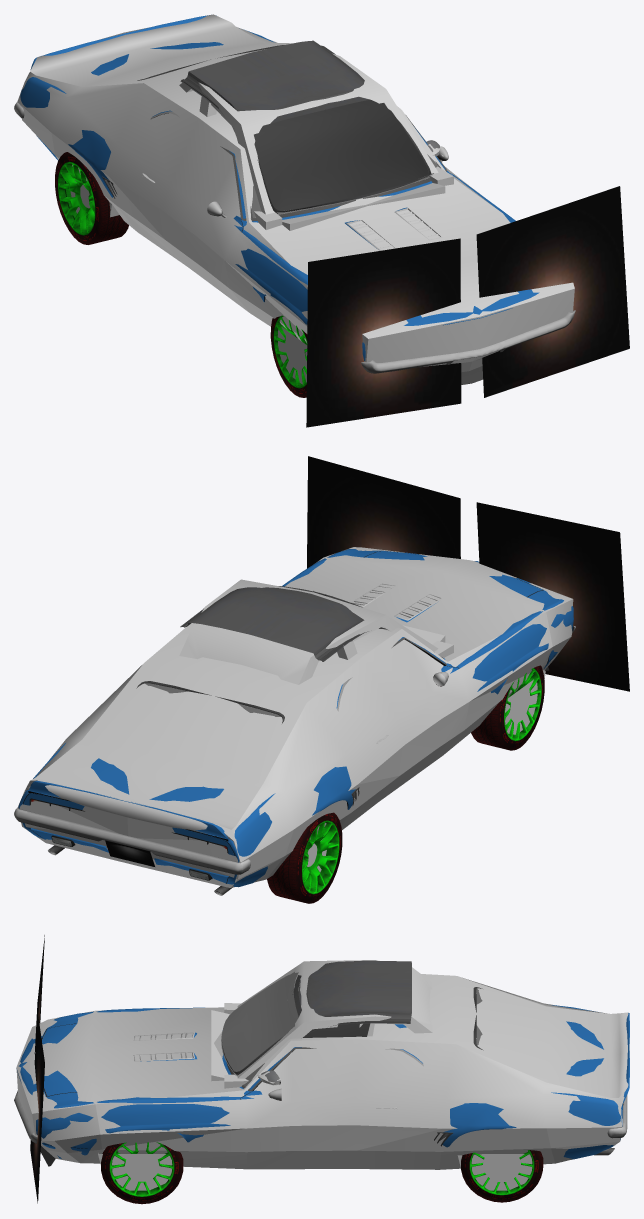
The model's file is P_car-011_Cascaron.fbx.
3 renders of one model, top to bottom at view 1: azimuth 30°, elevation 25°; view 2: azimuth 150°, elevation 25°; view 3: azimuth 270°, elevation 25°, orthographic. The views are drawn at different scales.
Visible parts, largest first — view 1: M_Car-011_Shadow_Cascaron_01, M_Car-011_FrontFlares_Cascaron_01, M_Car-Interior_Glass_01, M_Car-Interior_Details_01, M_Car-011_Body_Cascaron_01, M_Car-Interior_Shadowform_01, M_Car-011_Details_Cascaron_01, M_CarWheel_003_AP_01, M_CaTire_003_AP_01 (×2), M_CaTire_003_AP_02; view 2: M_Car-011_Shadow_Cascaron_01, M_Car-011_FrontFlares_Cascaron_01, M_Car-011_Body_Cascaron_01, M_Car-Interior_Details_01, M_Car-Interior_Shadowform_01, M_Car-011_Details_Cascaron_01, M_CarWheel_003_AP_01 (×2), M_CaTire_003_AP_02 (×2), M_Car-011_BackFlares_Cascaron_01, M_CaTire_003_AP_01; view 3: M_Car-011_Shadow_Cascaron_01, M_Car-011_Body_Cascaron_01, M_Car-Interior_Details_01, M_Car-Interior_Shadowform_01, M_Car-Interior_Glass_01, M_CarWheel_003_AP_01 (×2), M_Car-011_Details_Cascaron_01, M_Car-011_FrontFlares_Cascaron_01, M_CaTire_003_AP_01, M_CaTire_003_AP_02.
Part boxes in pixels (<box>): M_Car-011_Shadow_Cascaron_01: <box>17,14,574,384</box>; M_Car-011_FrontFlares_Cascaron_01: <box>306,186,629,427</box>; M_Car-Interior_Glass_01: <box>254,99,427,210</box>; M_Car-Interior_Details_01: <box>180,40,439,213</box>; M_Car-011_Body_Cascaron_01: <box>20,15,539,360</box>; M_Car-Interior_Shadowform_01: <box>179,53,453,230</box>; M_Car-011_Details_Cascaron_01: <box>14,45,575,384</box>; M_CarWheel_003_AP_01: <box>55,152,128,244</box>; M_CaTire_003_AP_01 (×2): <box>58,161,297,387</box>; M_CaTire_003_AP_02: <box>79,168,95,235</box>; M_Car-011_Shadow_Cascaron_01: <box>17,547,573,887</box>; M_Car-011_FrontFlares_Cascaron_01: <box>307,456,629,691</box>; M_Car-011_Body_Cascaron_01: <box>18,549,573,887</box>; M_Car-Interior_Details_01: <box>180,586,387,661</box>; M_Car-Interior_Shadowform_01: <box>179,579,453,684</box>; M_Car-011_Details_Cascaron_01: <box>14,550,575,895</box>; M_CarWheel_003_AP_01 (×2): <box>267,665,544,903</box>; M_CaTire_003_AP_02 (×2): <box>312,668,541,887</box>; M_Car-011_BackFlares_Cascaron_01: <box>31,799,226,866</box>; M_CaTire_003_AP_01: <box>302,821,324,894</box>; M_Car-011_Shadow_Cascaron_01: <box>16,974,629,1190</box>; M_Car-011_Body_Cascaron_01: <box>16,1005,629,1159</box>; M_Car-Interior_Details_01: <box>221,960,411,1084</box>; M_Car-Interior_Shadowform_01: <box>211,960,432,1088</box>; M_Car-Interior_Glass_01: <box>222,972,370,1071</box>; M_CarWheel_003_AP_01 (×2): <box>101,1143,543,1204</box>; M_Car-011_Details_Cascaron_01: <box>14,987,627,1166</box>; M_Car-011_FrontFlares_Cascaron_01: <box>30,935,44,1203</box>; M_CaTire_003_AP_01: <box>109,1142,147,1196</box>; M_CaTire_003_AP_02: <box>143,1142,174,1196</box>.
Size of the model in its own units: 2.47 by 1.46 by 4.72.
